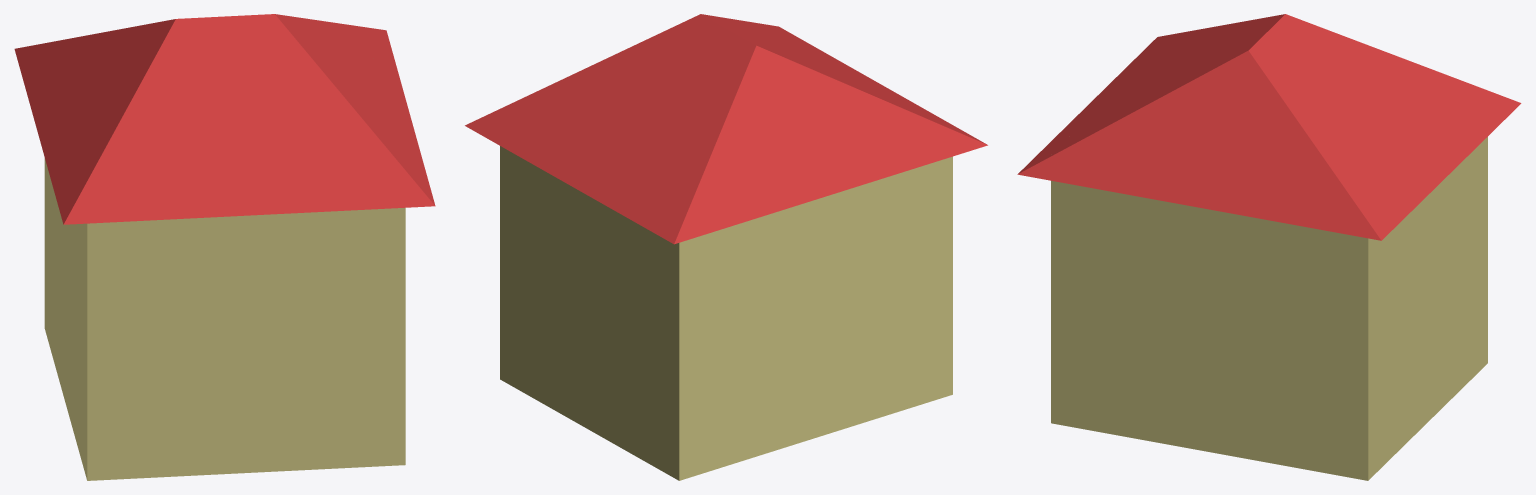
3 renders of one model, left to right at view 1: azimuth 30°, elevation 25°; view 2: azimuth 150°, elevation 25°; view 3: azimuth 270°, elevation 25°, orthographic. The views are drawn at different scales.
Parts seen in each view (by area): view 1: group_5, group_3, group_4; view 2: group_5, group_3, group_4; view 3: group_5, group_3, group_4.
Part boxes in pixels (x1,y1,x2,y2): group_5: (44,158,405,480); group_3: (14,14,435,224); group_4: (64,27,435,223); group_5: (500,146,952,480); group_3: (465,14,987,244); group_4: (469,24,975,243); group_5: (1051,137,1487,480); group_3: (1017,14,1520,240); group_4: (1018,32,1521,240).
Size of the model in its own units: 18.81 by 19.67 by 15.51.
